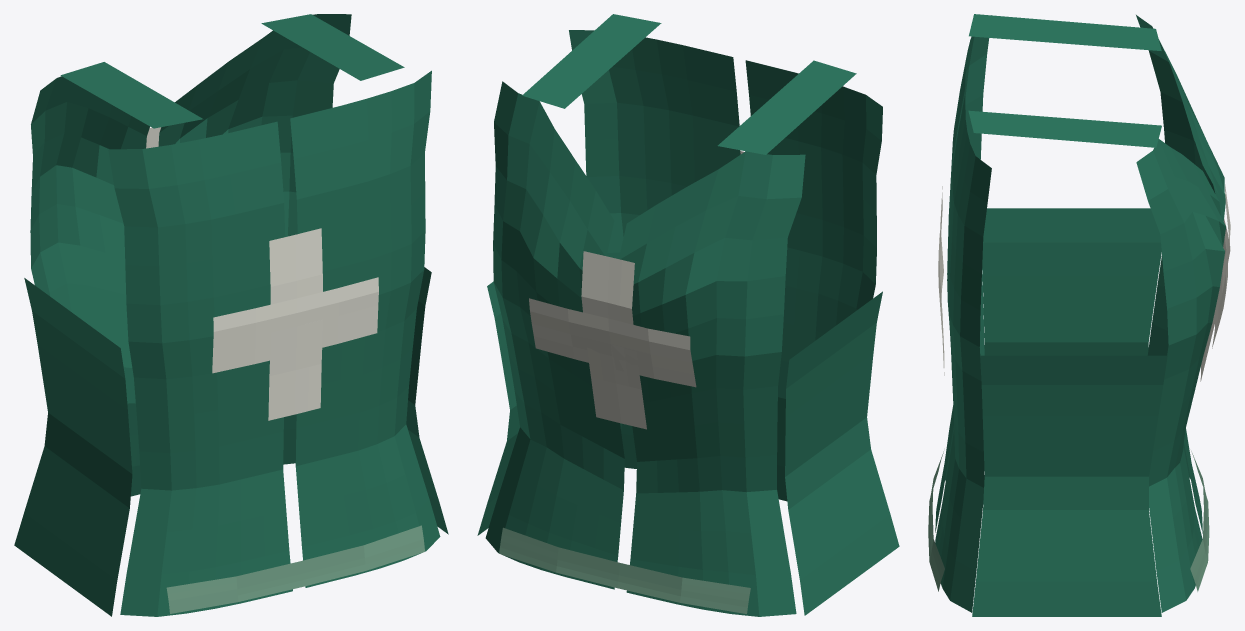
Rendered from lwf_medic_female_overlay_v1.glb.
3 views of the same model, side by side, from view 1: azimuth 30°, elevation 25°; view 2: azimuth 150°, elevation 25°; view 3: azimuth 270°, elevation 25° (orthographic). The views are drawn at different scales.
Visible parts, largest first — view 1: LWF_Medic_Female_Overlay; view 2: LWF_Medic_Female_Overlay; view 3: LWF_Medic_Female_Overlay.
Part boxes in pixels (x1=…): LWF_Medic_Female_Overlay: x1=14, y1=14, x2=448, y2=616; LWF_Medic_Female_Overlay: x1=477, y1=14, x2=899, y2=616; LWF_Medic_Female_Overlay: x1=928, y1=14, x2=1230, y2=616.
Size of the model in its own units: 0.3221 by 0.436 by 0.2578.
1 material, 1 textured.
